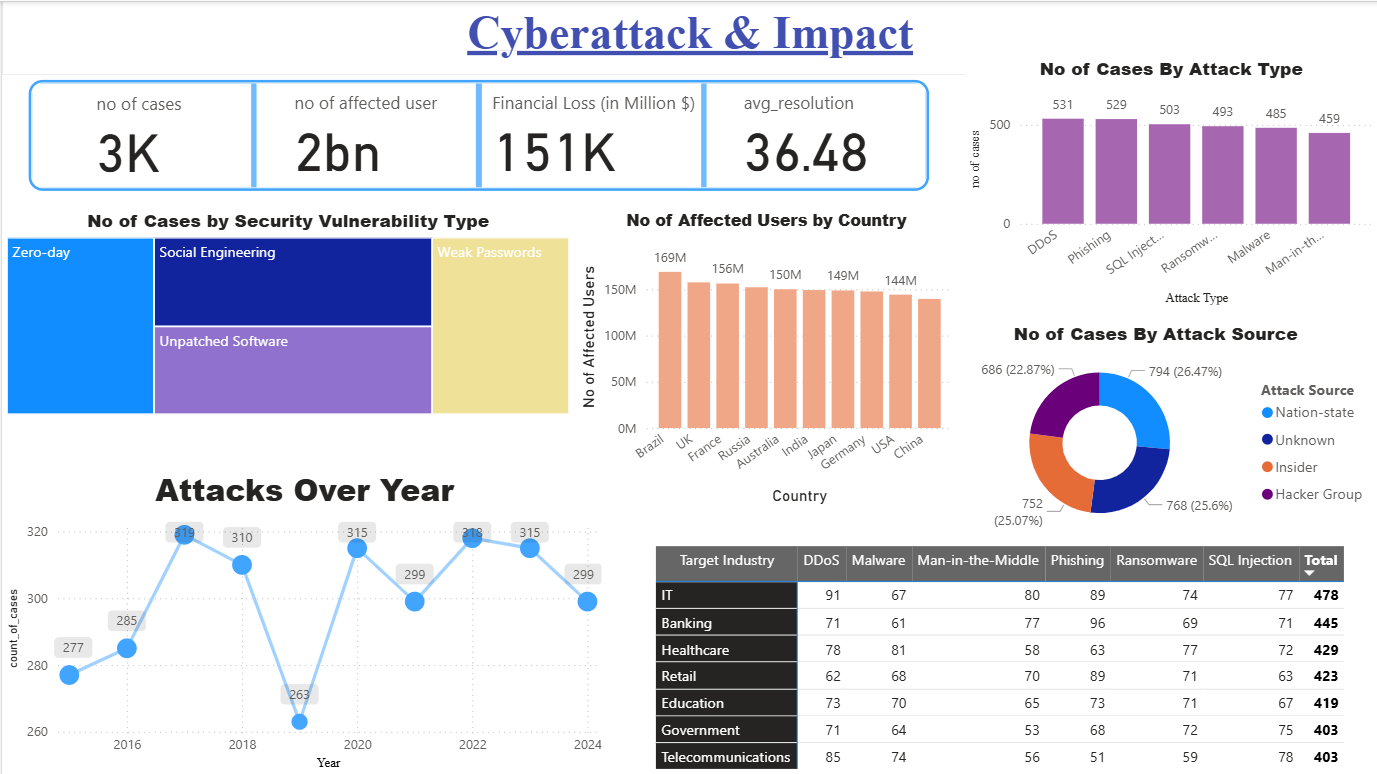

What the dashboard file says about the page in this screenshot:
{"tool":"powerbi","page":{"name":"Attack & Impact","canvas":[1280,720],"ordinal":0},"visuals":[{"type":"textbox","box":[0,0,1280.2,68.6],"z":0},{"type":"lineChart","title":"Attacks Over Year","fields":{"Category":["Global_Cybersecurity_Threats_2015-2024.Year"],"Y":["Global_Cybersecurity_Threats_2015-2024.count_of_attack"]},"box":[0,433.7,562.8,286],"z":1000},{"type":"clusteredColumnChart","title":"No of Cases By Attack Type","fields":{"Category":["Global_Cybersecurity_Threats_2015-2024.Attack Type"],"Y":["Global_Cybersecurity_Threats_2015-2024.count_of_attack"]},"box":[895.4,51.2,384.9,236],"z":2000},{"type":"pivotTable","fields":{"Values":["Global_Cybersecurity_Threats_2015-2024.count_of_cases"],"Rows":["Global_Cybersecurity_Threats_2015-2024.Target Industry"],"Columns":["Global_Cybersecurity_Threats_2015-2024.Attack Type"]},"box":[603.5,502.3,676.7,217.4],"z":3000},{"type":"donutChart","title":"No of Cases By Attack Source","fields":{"Y":["Global_Cybersecurity_Threats_2015-2024.count_of_cases"],"Category":["Global_Cybersecurity_Threats_2015-2024.Attack Source"]},"box":[866.3,297.7,414,204.7],"z":4000},{"type":"treemap","title":"No of Cases by Security Vulnerability Type","fields":{"Group":["Global_Cybersecurity_Threats_2015-2024.Security Vulnerability Type"],"Values":["Global_Cybersecurity_Threats_2015-2024.count_of_cases"]},"box":[0,193,532.6,196.5],"z":5000},{"type":"columnChart","title":"No of Affected Users by Country","fields":{"Category":["Global_Cybersecurity_Threats_2015-2024.Country"],"Y":["Sum(Global_Cybersecurity_Threats_2015-2024.Number of Affected Users)"]},"box":[532.6,193,357,280.2],"z":6000},{"type":"cardVisual","fields":{"Data":["Global_Cybersecurity_Threats_2015-2024.count_of_cases","Global_Cybersecurity_Threats_2015-2024.no_of_affected_user","Sum(Global_Cybersecurity_Threats_2015-2024.Financial Loss (in Million $))","Global_Cybersecurity_Threats_2015-2024.avg_resolution"]},"box":[0,68.6,889.5,114],"z":7000}]}

Visuals, with their boxes in screenshot pixels (x1, y1, x2, y2), scaled from the page's 1280x720 canvas onto the 1377x774 screenshot:
textbox: BBox(0, 0, 1376, 74)
"Attacks Over Year" lineChart: BBox(0, 466, 605, 773)
"No of Cases By Attack Type" clusteredColumnChart: BBox(963, 55, 1376, 309)
pivotTable - Global_Cybersecurity_Threats_2015-2024.count_of_cases x Global_Cybersecurity_Threats_2015-2024.Target Industry: BBox(649, 540, 1376, 773)
"No of Cases By Attack Source" donutChart: BBox(932, 320, 1376, 540)
"No of Cases by Security Vulnerability Type" treemap: BBox(0, 207, 573, 419)
"No of Affected Users by Country" columnChart: BBox(573, 207, 957, 509)
cardVisual - Global_Cybersecurity_Threats_2015-2024.count_of_cases x Global_Cybersecurity_Threats_2015-2024.no_of_affected_user: BBox(0, 74, 957, 196)
